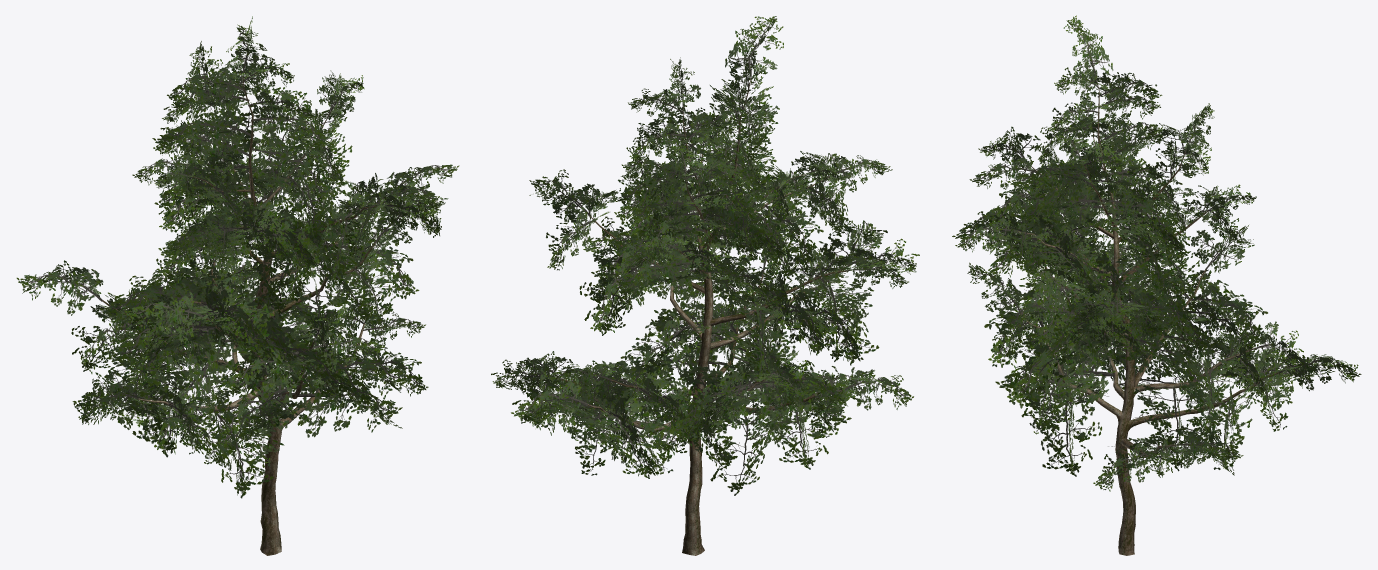
File: tree_oak_young.glb
The picture shows the model from 3 angles, left to right: view 1: azimuth 30°, elevation 25°; view 2: azimuth 150°, elevation 25°; view 3: azimuth 270°, elevation 25°; orthographic projection. The views are drawn at different scales.
Parts seen in each view (by area): view 1: tree_oak_young; view 2: tree_oak_young; view 3: tree_oak_young.
Part boxes in pixels (x1,y1,x2,y2): tree_oak_young: (16,16,459,555); tree_oak_young: (491,16,919,555); tree_oak_young: (952,15,1361,555).
Size of the model in its own units: 31.13 by 42 by 30.86.
2 materials, 2 textured.
